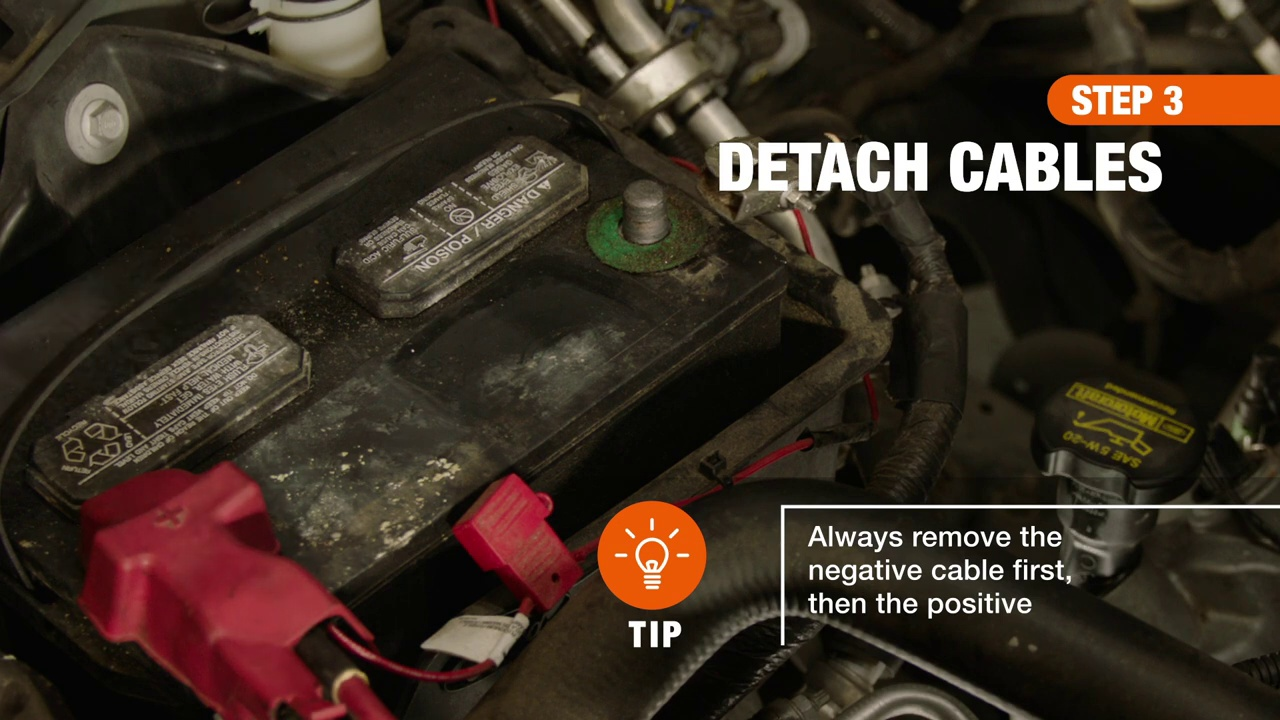battery: (46, 48, 773, 675)
neg_disconnected: (566, 164, 723, 303)
pos_connected: (51, 432, 339, 669)
